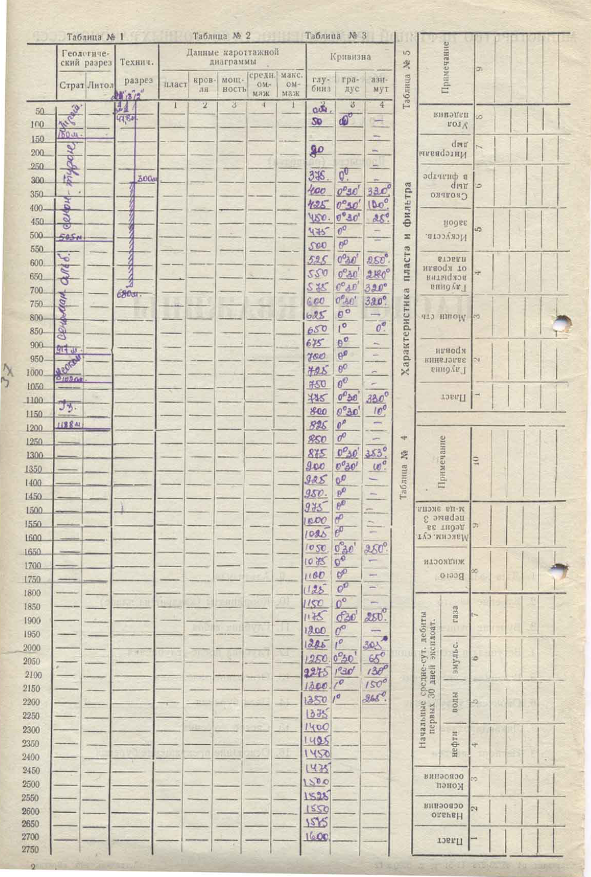Bordered: (305, 40, 392, 845)
